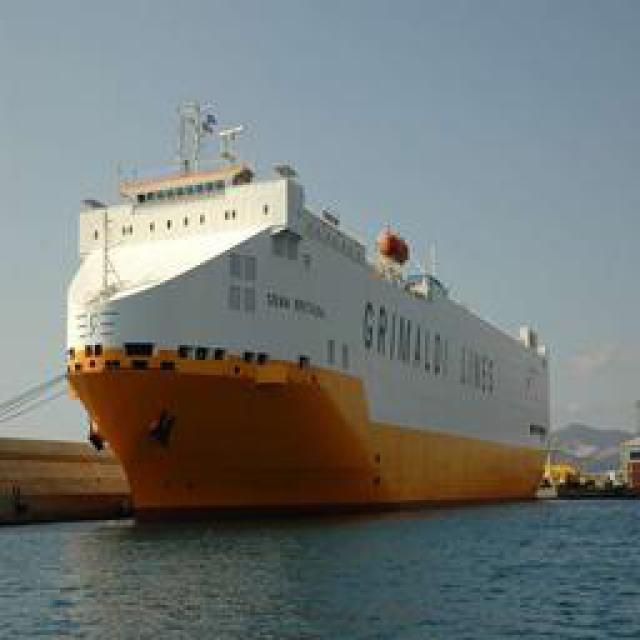Ship: (51, 91, 561, 516)
